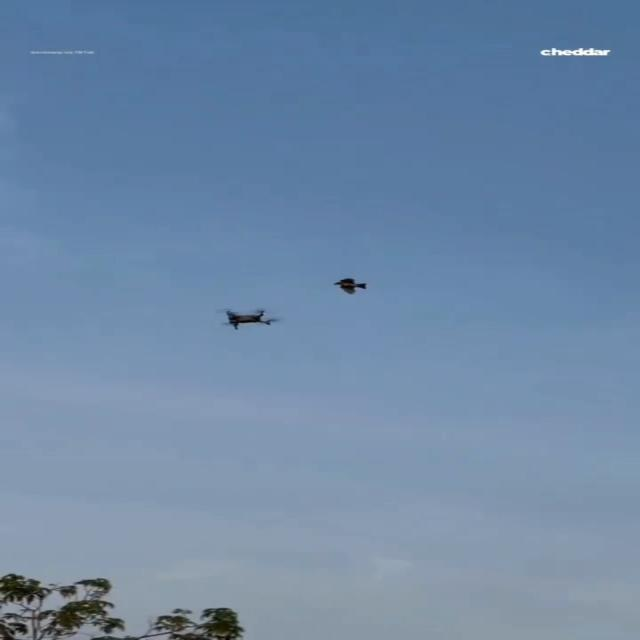bird: (332, 278, 367, 294)
drone: (223, 308, 273, 329)
